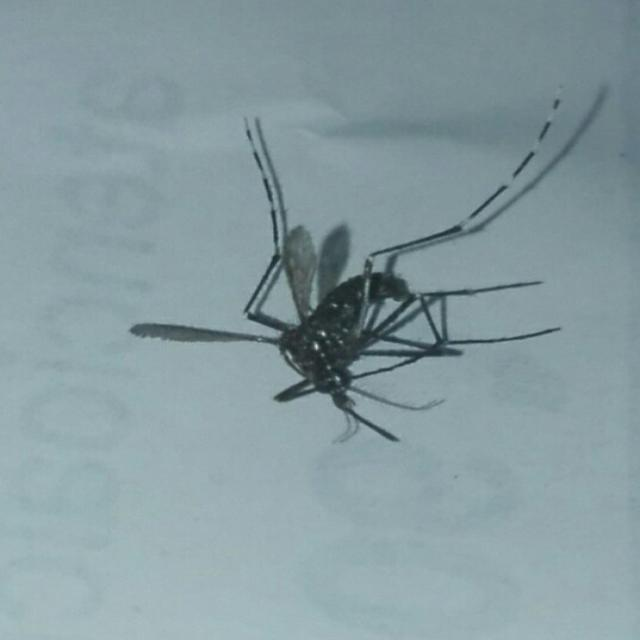albopictus: (126, 67, 577, 456)
